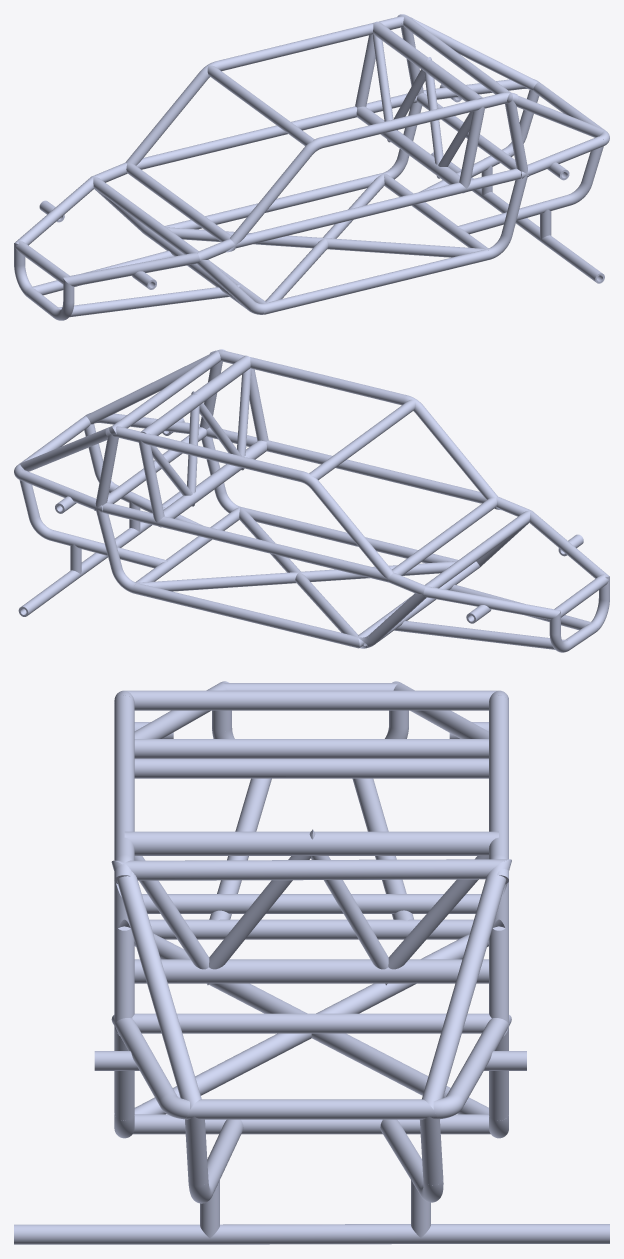
File: CHASIS-v1.glb
3 renders of one model, top to bottom at view 1: azimuth 30°, elevation 25°; view 2: azimuth 150°, elevation 25°; view 3: azimuth 270°, elevation 25°, orthographic. The views are drawn at different scales.
Parts seen in each view (by area): view 1: CHASIS.step; view 2: CHASIS.step; view 3: CHASIS.step.
Part boxes in pixels (x1=…): CHASIS.step: x1=14, y1=14, x2=609, y2=320; CHASIS.step: x1=14, y1=349, x2=609, y2=652; CHASIS.step: x1=14, y1=681, x2=609, y2=1244.
Size of the model in its own units: 4.03 by 1.35 by 2.16.
